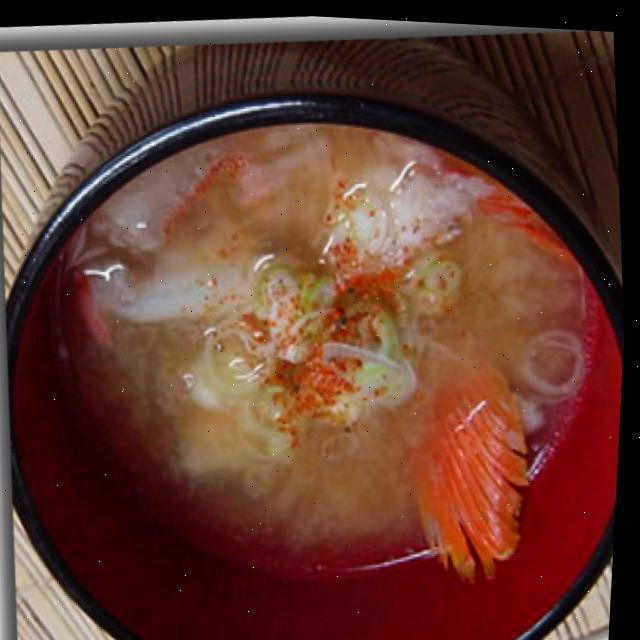汤锅炖物: (0, 9, 640, 640)
